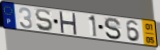1: (88, 15, 99, 38)
3: (18, 6, 34, 29)
6: (126, 19, 141, 43)
H: (58, 10, 78, 36)
S: (34, 8, 54, 33), (103, 17, 123, 41)
